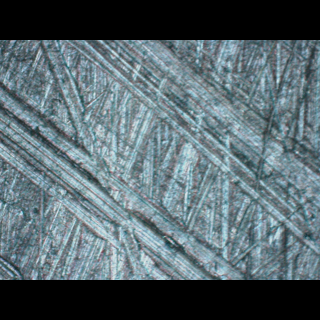d: (62, 40, 319, 255), (0, 84, 248, 279)
